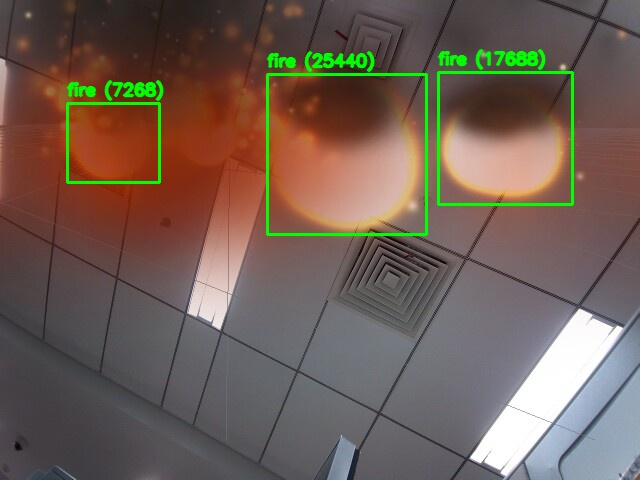fire: (267, 74, 426, 234), (438, 72, 572, 204), (67, 103, 159, 182)
